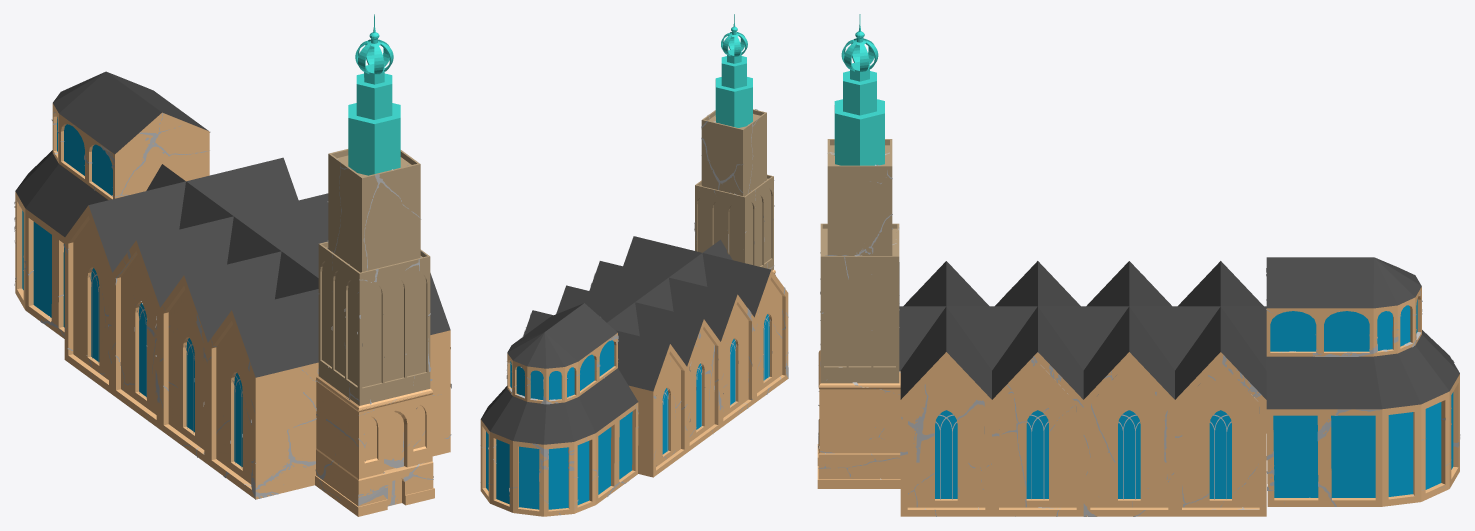
The model's file is MartiniTower.fbx.
The picture shows the model from 3 angles, left to right: view 1: azimuth 30°, elevation 25°; view 2: azimuth 150°, elevation 25°; view 3: azimuth 270°, elevation 25°; orthographic projection. The views are drawn at different scales.
Parts seen in each view (by area): view 1: MartiniTower_Cracked, MartiniTower; view 2: MartiniTower_Cracked, MartiniTower; view 3: MartiniTower_Cracked, MartiniTower.
Part boxes in pixels (x1,y1,x2,y2): MartiniTower_Cracked: [14, 14, 451, 514]; MartiniTower: [15, 35, 450, 516]; MartiniTower_Cracked: [480, 14, 788, 515]; MartiniTower: [480, 29, 788, 516]; MartiniTower_Cracked: [817, 14, 1460, 516]; MartiniTower: [817, 34, 1459, 516].
Bounding box in the file's own units: 200 × 464 × 593.
